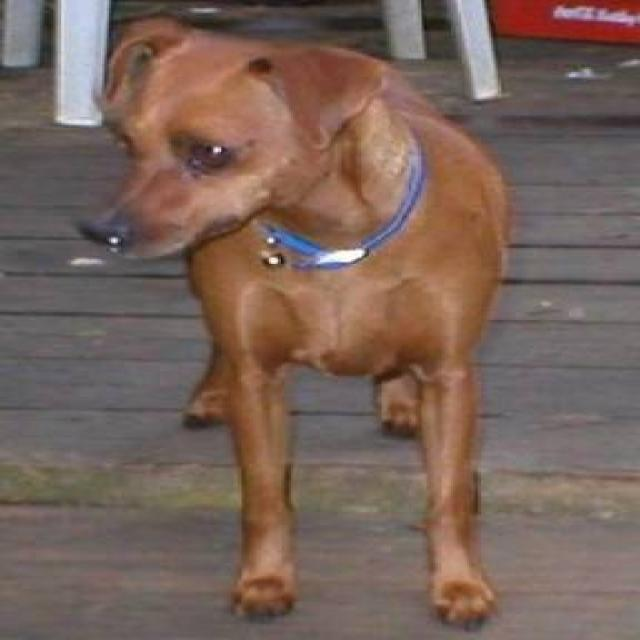dog: (76, 12, 514, 630)
